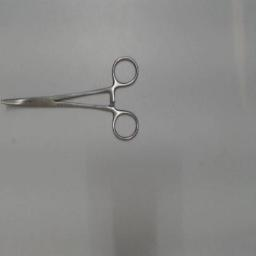Crile Artery Forceps: (1, 51, 143, 147)
